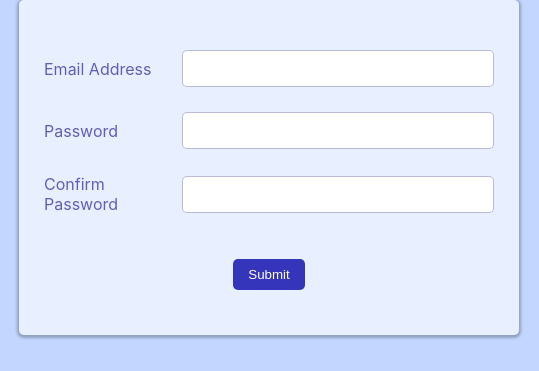
Test: Form › Error Handling › should not show email error message on valid email after initially input an invalid email (with its respective email error message)
The width and height of the screenshot is (539, 371).
Type "wiugmail.com" into the field labelled "Email Address" at (338, 68), box 182,50 -> 494,87
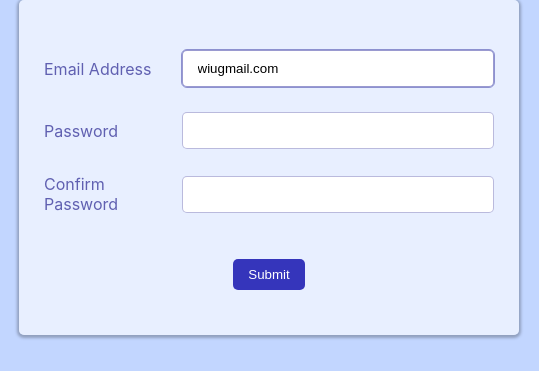
Click the button "Submit" at (269, 274), box 233,259 -> 305,290
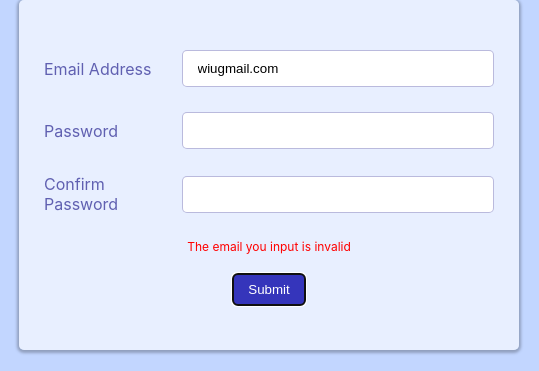
Result: the text "The email you input is invalid" is shown at 187,239 -> 351,254
Type "wiu@gmail.com" into the field labelled "Email Address" at (338, 68), box 182,50 -> 494,87
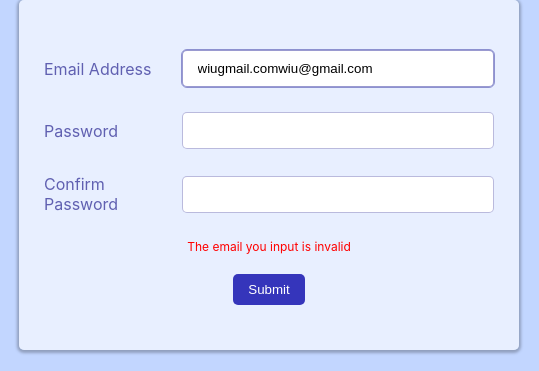
Click the button "Submit" at (269, 290), box 233,274 -> 305,305
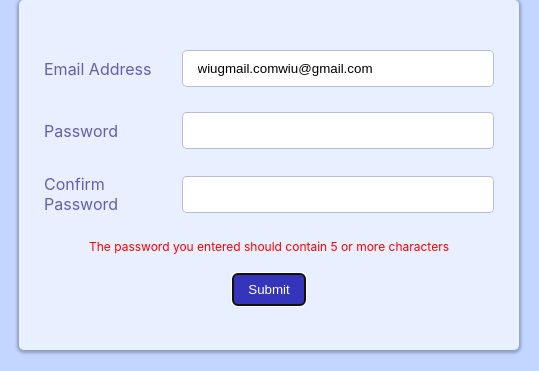
Result: the text "The email you input is invalid" is gone
